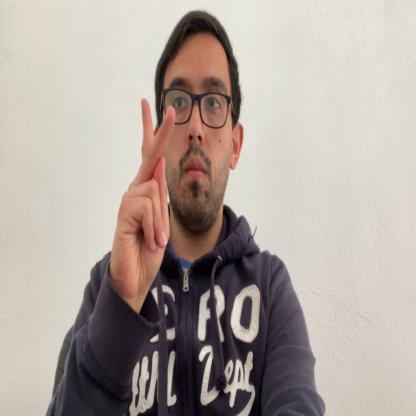P: (110, 96, 176, 312)
